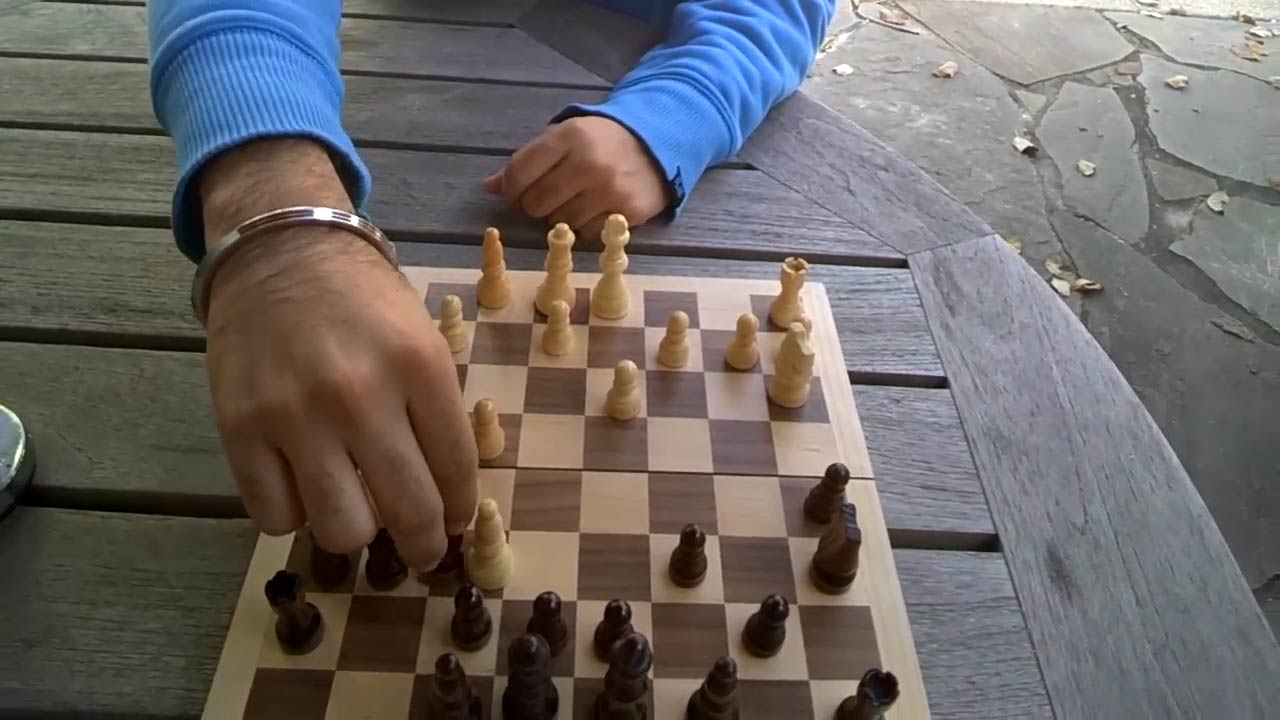hand: (203, 237, 465, 579), (491, 113, 674, 233)
